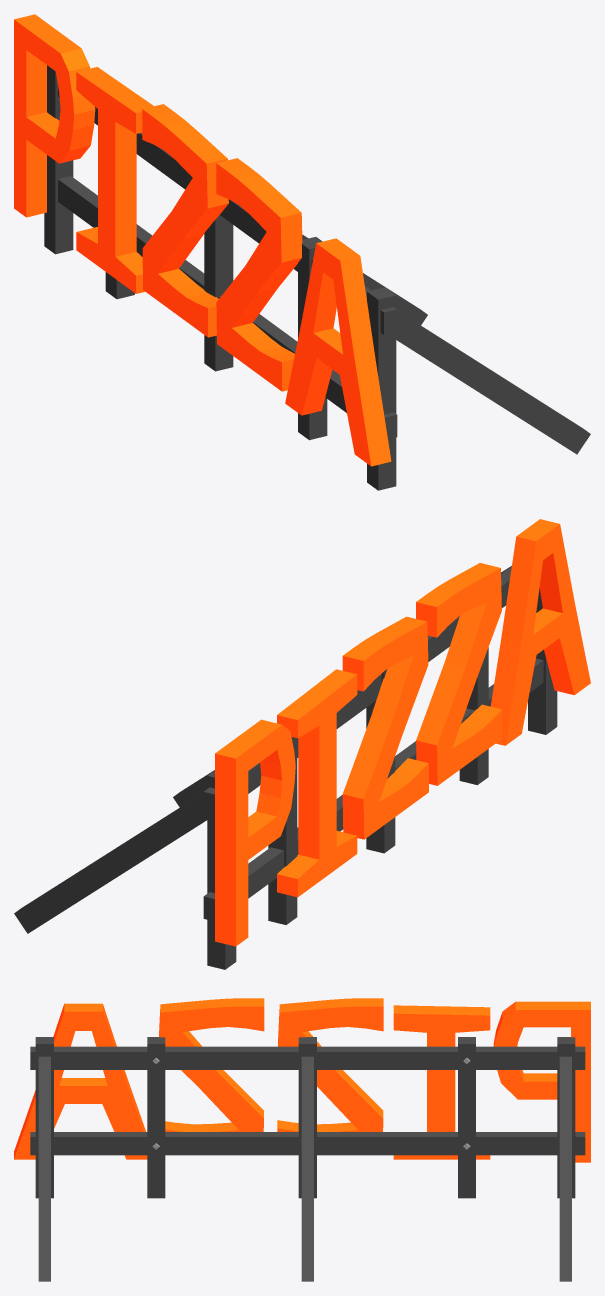
File: SM_Hoarding_04.fbx
3 renders of one model, top to bottom at view 1: azimuth 30°, elevation 25°; view 2: azimuth 150°, elevation 25°; view 3: azimuth 270°, elevation 25°, orthographic. The views are drawn at different scales.
Parts seen in each view (by area): view 1: SM_Hoarding_04_LOD0; view 2: SM_Hoarding_04_LOD0; view 3: SM_Hoarding_04_LOD0.
Boxes of the visible parts, box(x1,y1,x2,y2) form: SM_Hoarding_04_LOD0: box(14, 14, 590, 490); SM_Hoarding_04_LOD0: box(14, 519, 590, 969); SM_Hoarding_04_LOD0: box(14, 998, 590, 1281).
Bounding box in the file's own units: 296 × 780 × 293.
1 material, 1 textured.
